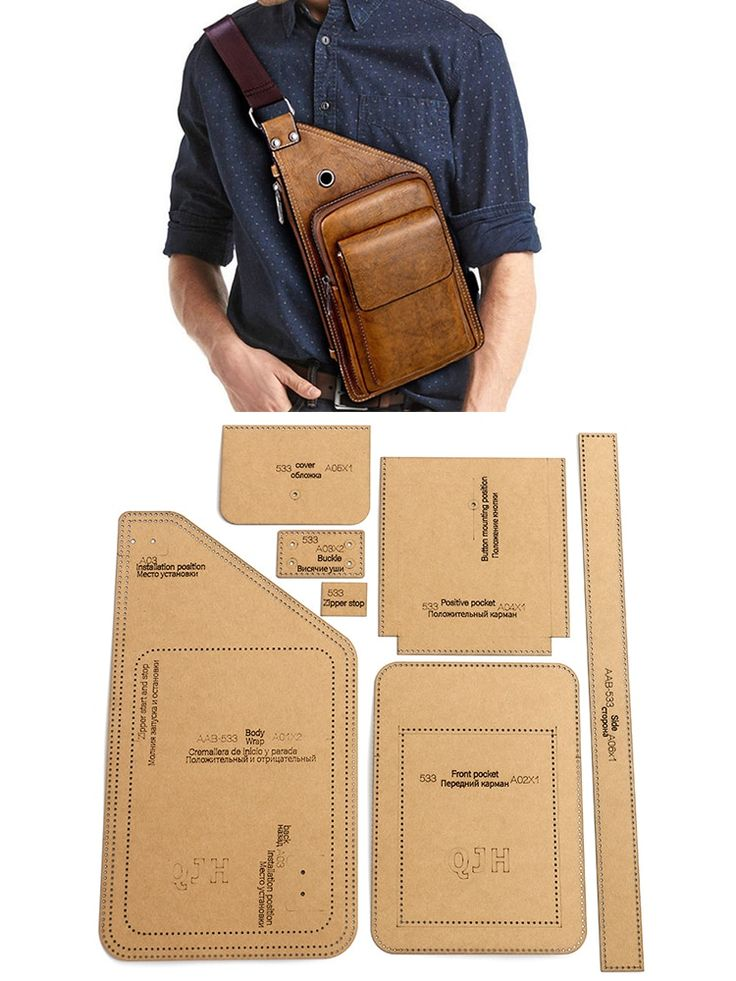cuero: (202, 14, 486, 403)
